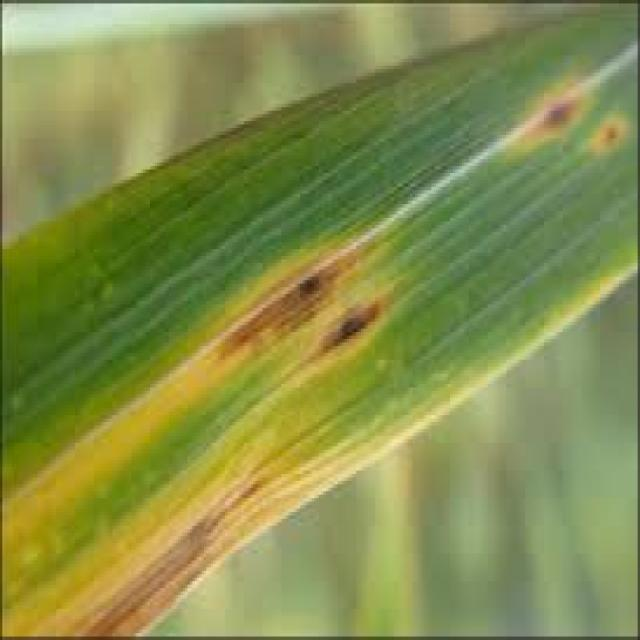leaf_blight: (2, 3, 635, 633)
